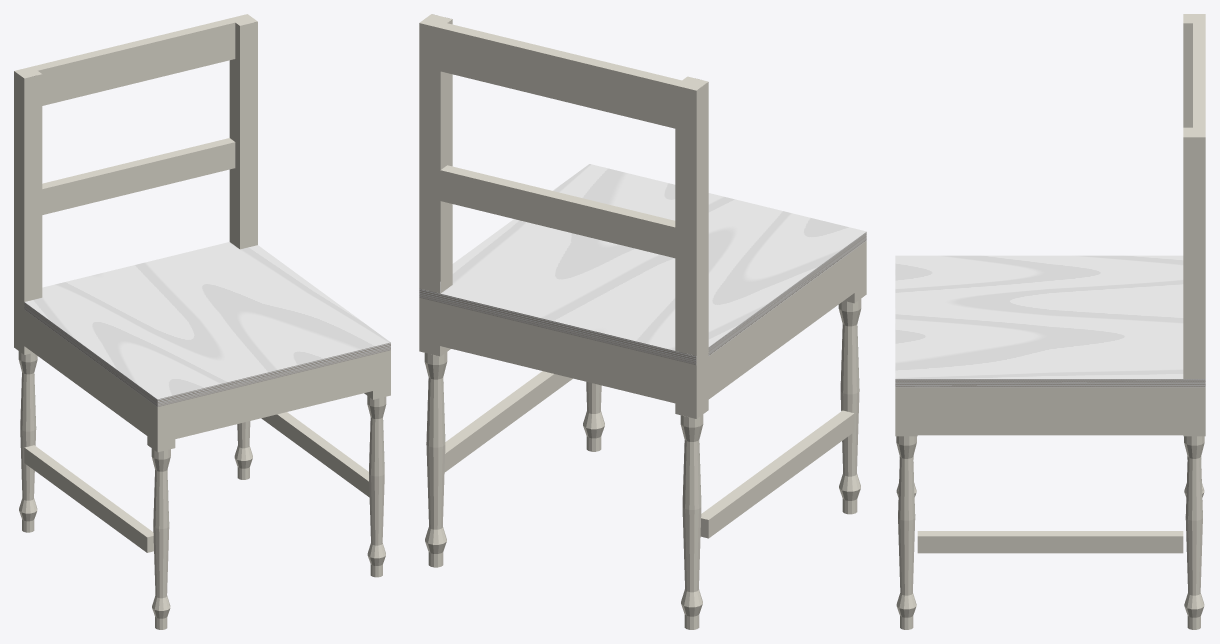
Rendered from LIT-WSR-std.glb.
The picture shows the model from 3 angles, left to right: view 1: azimuth 30°, elevation 25°; view 2: azimuth 150°, elevation 25°; view 3: azimuth 270°, elevation 25°; orthographic projection. The views are drawn at different scales.
Parts seen in each view (by area): view 1: seat:sheet:eyJtIjoicGx5Iiwic2lkZSI6ImZhY2UiLCJzZWVkIjo2LCJ2Z, leg-bl:pbr, back-top:pbr, rail-f:pbr, leg-br:pbr, back-mid:pbr, rail-l:pbr, leg-fl:pbr, leg-fr:pbr, stretcher-l:pbr, stretcher-r:pbr, seat:sheet:eyJtIjoicGx5Iiwic2lkZSI6ImVkZ2UtZW5kIiwic2VlZCI6N (+1 smaller); view 2: seat:sheet:eyJtIjoicGx5Iiwic2lkZSI6ImZhY2UiLCJzZWVkIjo2LCJ2Z, leg-bl:pbr, leg-br:pbr, back-top:pbr, rail-b:pbr, back-mid:pbr, rail-l:pbr, stretcher-l:pbr, leg-fl:pbr, stretcher-r:pbr, seat:sheet:eyJtIjoicGx5Iiwic2lkZSI6ImVkZ2UtZW5kIiwic2VlZCI6N, seat:sheet:eyJtIjoicGx5Iiwic2lkZSI6ImVkZ2UtbG9uZyIsInNlZWQiO (+1 smaller); view 3: seat:sheet:eyJtIjoicGx5Iiwic2lkZSI6ImZhY2UiLCJzZWVkIjo2LCJ2Z, rail-r:pbr, leg-br:pbr, stretcher-r:pbr, leg-fr:pbr, seat:sheet:eyJtIjoicGx5Iiwic2lkZSI6ImVkZ2UtbG9uZyIsInNlZWQiO, stretcher-l:pbr, back-top:pbr, leg-bl:pbr.
Part boxes in pixels (x1,y1,x2,y2): seat:sheet:eyJtIjoicGx5Iiwic2lkZSI6ImZhY2UiLCJzZWVkIjo2LCJ2Z: (25, 242, 390, 399); leg-bl:pbr: (14, 66, 42, 532); back-top:pbr: (32, 18, 235, 105); rail-f:pbr: (175, 354, 372, 438); leg-br:pbr: (229, 14, 257, 479); back-mid:pbr: (42, 138, 235, 214); rail-l:pbr: (24, 310, 147, 435); leg-fl:pbr: (147, 400, 175, 629); leg-fr:pbr: (364, 350, 390, 577); stretcher-l:pbr: (24, 445, 153, 552); stretcher-r:pbr: (261, 412, 369, 497); seat:sheet:eyJtIjoicGx5Iiwic2lkZSI6ImVkZ2UtZW5kIiwic2VlZCI6N: (157, 342, 390, 406); seat:sheet:eyJtIjoicGx5Iiwic2lkZSI6ImZhY2UiLCJzZWVkIjo2LCJ2Z: (440, 164, 866, 350); leg-bl:pbr: (675, 76, 708, 629); leg-br:pbr: (419, 14, 452, 567); back-top:pbr: (440, 23, 681, 128); rail-b:pbr: (440, 303, 675, 403); back-mid:pbr: (440, 165, 675, 258); rail-l:pbr: (708, 250, 854, 399); stretcher-l:pbr: (700, 410, 854, 538); leg-fl:pbr: (838, 241, 866, 514); stretcher-r:pbr: (444, 371, 572, 472); seat:sheet:eyJtIjoicGx5Iiwic2lkZSI6ImVkZ2UtZW5kIiwic2VlZCI6N: (419, 288, 696, 365); seat:sheet:eyJtIjoicGx5Iiwic2lkZSI6ImVkZ2UtbG9uZyIsInNlZWQiO: (696, 232, 866, 364); seat:sheet:eyJtIjoicGx5Iiwic2lkZSI6ImZhY2UiLCJzZWVkIjo2LCJ2Z: (895, 255, 1183, 378); rail-r:pbr: (917, 387, 1183, 426); leg-br:pbr: (1183, 127, 1205, 629); stretcher-r:pbr: (917, 531, 1183, 553); leg-fr:pbr: (895, 387, 917, 629); seat:sheet:eyJtIjoicGx5Iiwic2lkZSI6ImVkZ2UtbG9uZyIsInNlZWQiO: (895, 379, 1205, 387); stretcher-l:pbr: (917, 426, 1183, 435); back-top:pbr: (1193, 23, 1205, 127); leg-bl:pbr: (1183, 14, 1205, 497).
Bounding box in the file's own units: 0.4701 × 0.88 × 0.5.
15 materials, 3 textured.
